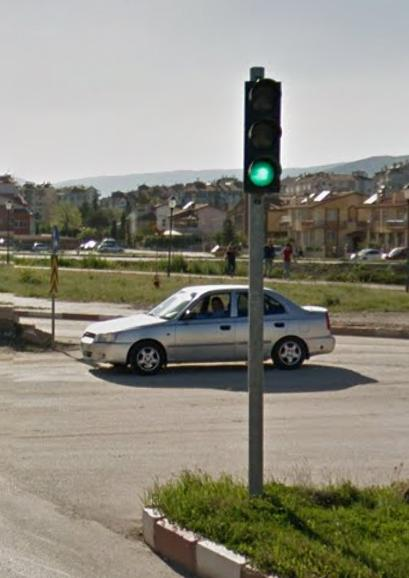greenlight: (246, 83, 281, 190)
